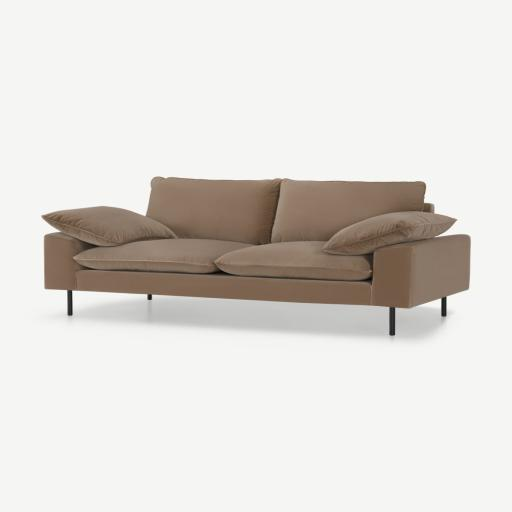back_cushion: (121, 161, 439, 241)
base: (50, 275, 397, 314)
left_arm: (393, 206, 470, 323)
legs: (366, 307, 402, 351), (63, 294, 85, 328), (430, 302, 435, 323)
right_arm: (46, 197, 121, 248)
seat_cushion: (42, 230, 391, 291)
two-seater: (0, 0, 511, 512)
